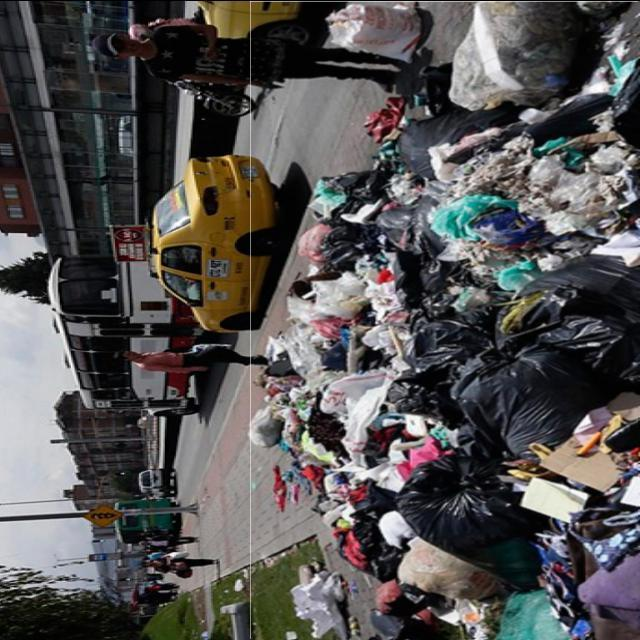Trashbag: (383, 457, 532, 595), (503, 256, 631, 360), (453, 353, 569, 464), (399, 110, 506, 176), (408, 318, 477, 392), (370, 196, 447, 255), (309, 166, 376, 227), (322, 218, 374, 270)
